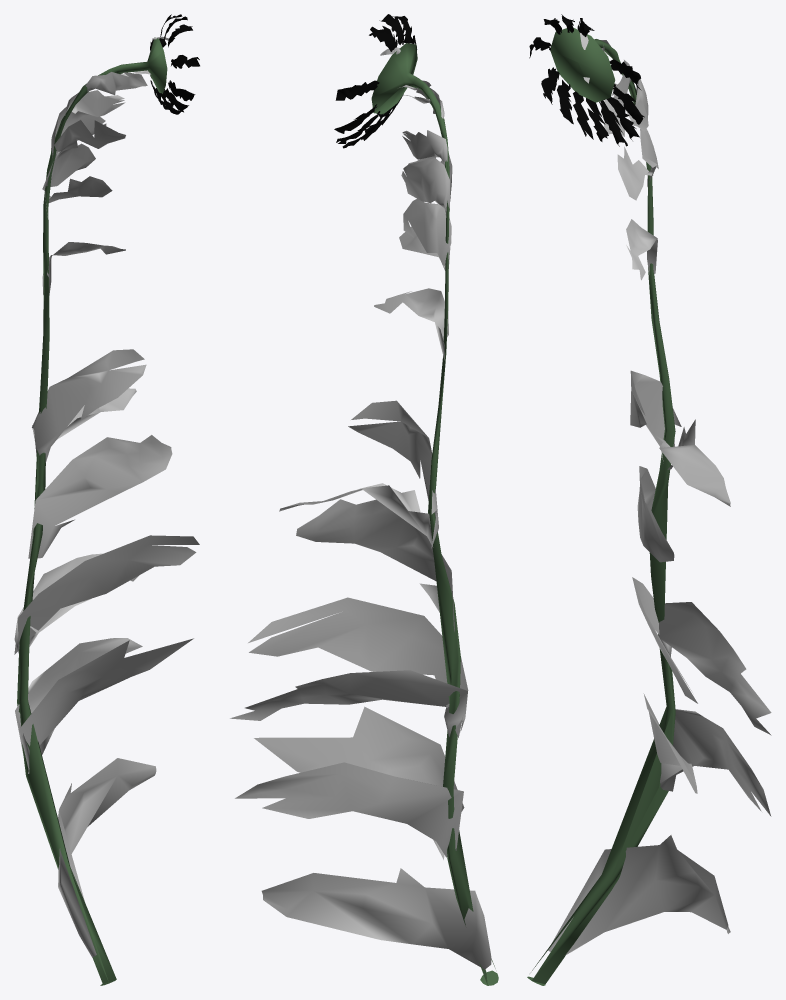
Rendered from Sunflower.fbx.
The picture shows the model from 3 angles, left to right: view 1: azimuth 30°, elevation 25°; view 2: azimuth 150°, elevation 25°; view 3: azimuth 270°, elevation 25°; orthographic projection. The views are drawn at different scales.
Visible parts, largest first — view 1: sunflowerThorns1Main; view 2: sunflowerThorns1Main; view 3: sunflowerThorns1Main.
Part boxes in pixels (x1,y1,x2,y2): sunflowerThorns1Main: (14,14,199,985); sunflowerThorns1Main: (230,14,498,985); sunflowerThorns1Main: (527,14,771,985).
Size of the model in its own units: 0.444 by 1.99 by 0.4352.
